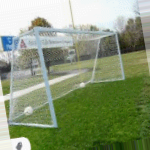goals: (7, 25, 127, 130)
